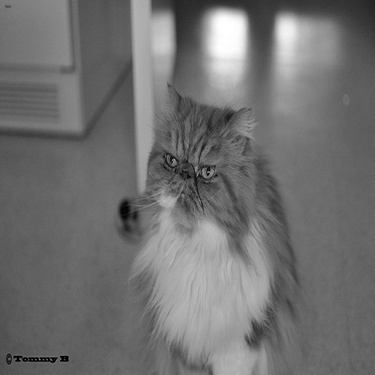cat: (113, 81, 303, 371)
